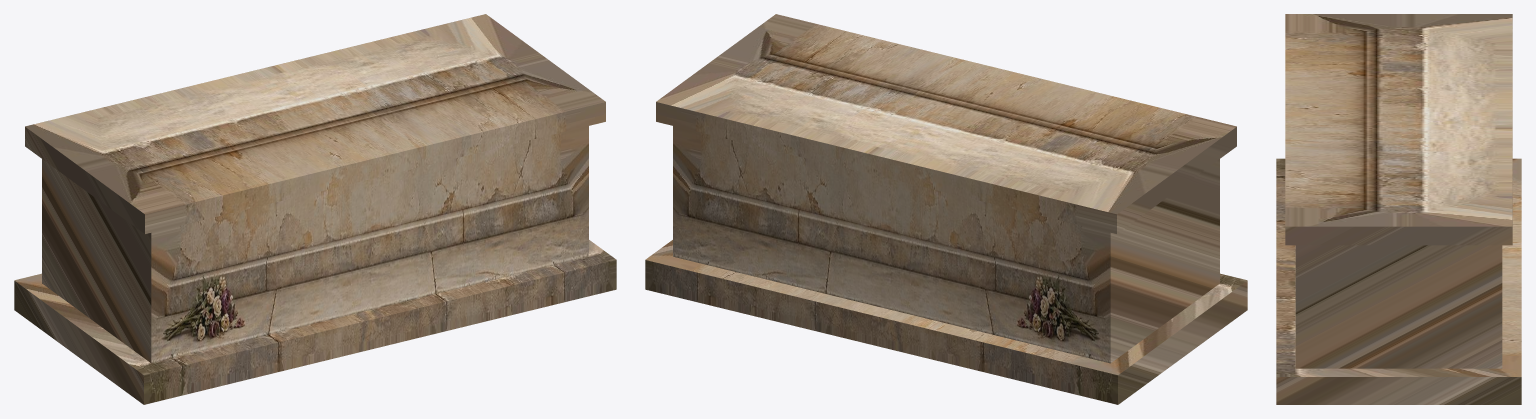
File: v3-chapel-altar.glb
3 renders of one model, left to right at view 1: azimuth 30°, elevation 25°; view 2: azimuth 150°, elevation 25°; view 3: azimuth 270°, elevation 25°, orthographic. The views are drawn at different scales.
Visible parts, largest first — view 1: v3-chapel-altar; view 2: v3-chapel-altar; view 3: v3-chapel-altar.
Boxes of the visible parts, left/top/right/bottom form: v3-chapel-altar: left=14, top=14, right=616, bottom=404; v3-chapel-altar: left=645, top=14, right=1247, bottom=404; v3-chapel-altar: left=1276, top=14, right=1521, bottom=404.
Size of the model in its own units: 2 by 0.75 by 0.95.
Materials: 1 (1 with a texture image).
